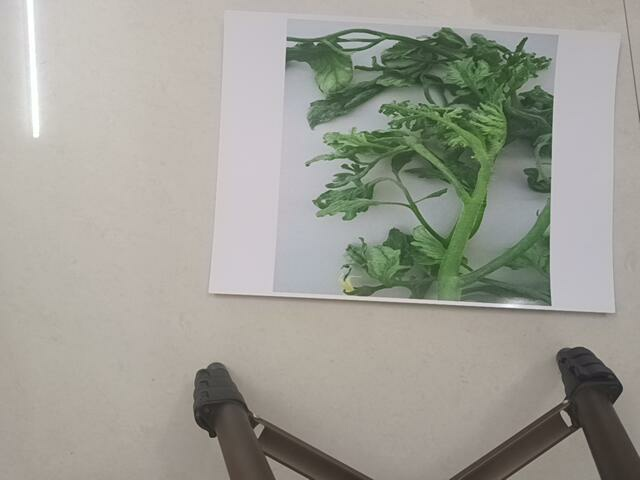Tomamto_Mosaic_virus: (283, 14, 554, 309)
